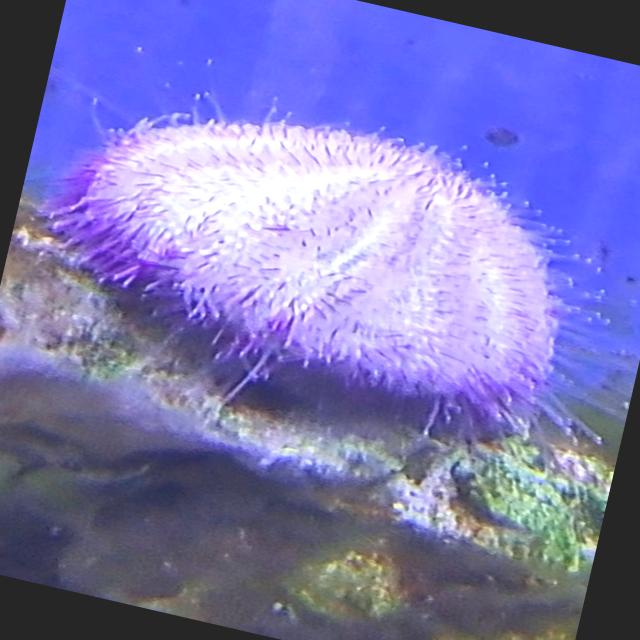Deniz Kestanesi: (1, 58, 620, 480)
